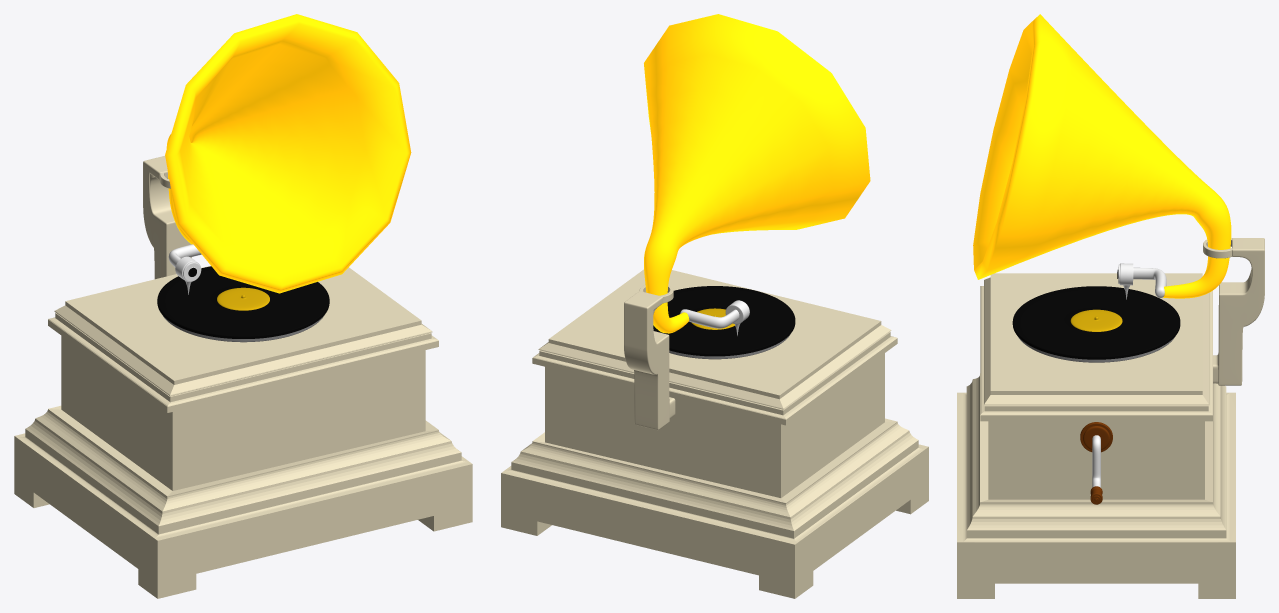
Rendered from gramafon (1).fbx.
3 renders of one model, left to right at view 1: azimuth 30°, elevation 25°; view 2: azimuth 150°, elevation 25°; view 3: azimuth 270°, elevation 25°, orthographic. The views are drawn at different scales.
Visible parts, largest first — view 1: Cube, NurbsPath.001, Cylinder.001, Cube.001; view 2: Cube, NurbsPath.001, Cylinder.001, Cube.001, NurbsPath.002; view 3: Cube, NurbsPath.001, Cylinder.001, Cube.001, Cylinder, NurbsPath.002, NurbsPath.
Boxes of the visible parts, x1,y1,x2,y2 form: Cube: [14, 265, 472, 598]; NurbsPath.001: [165, 14, 411, 293]; Cylinder.001: [157, 266, 329, 342]; Cube.001: [143, 156, 191, 279]; Cube: [501, 269, 928, 598]; NurbsPath.001: [644, 14, 870, 333]; Cylinder.001: [653, 286, 795, 359]; Cube.001: [624, 284, 675, 429]; NurbsPath.002: [680, 309, 739, 328]; Cube: [957, 273, 1235, 598]; NurbsPath.001: [973, 14, 1231, 298]; Cylinder.001: [1012, 286, 1180, 362]; Cube.001: [1203, 238, 1264, 385]; Cylinder: [1080, 422, 1112, 452]; NurbsPath.002: [1133, 267, 1166, 297]; NurbsPath: [1092, 435, 1100, 487].
Size of the model in its own units: 379 by 548 by 308.
